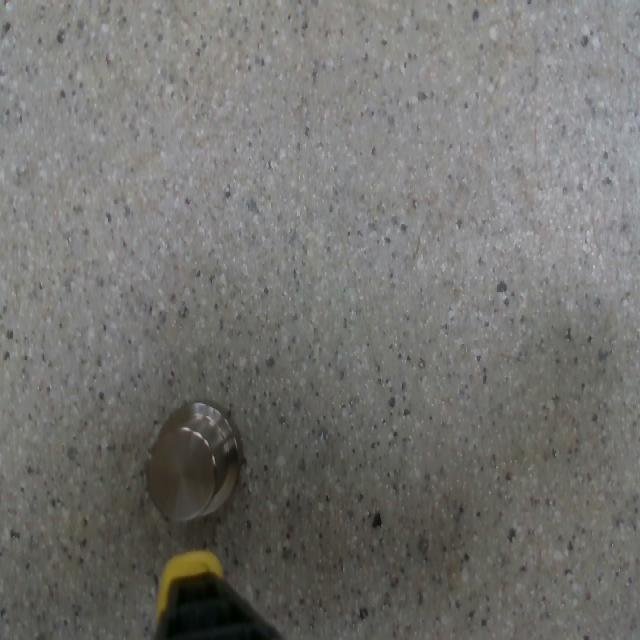sensor: (146, 399, 246, 524)
